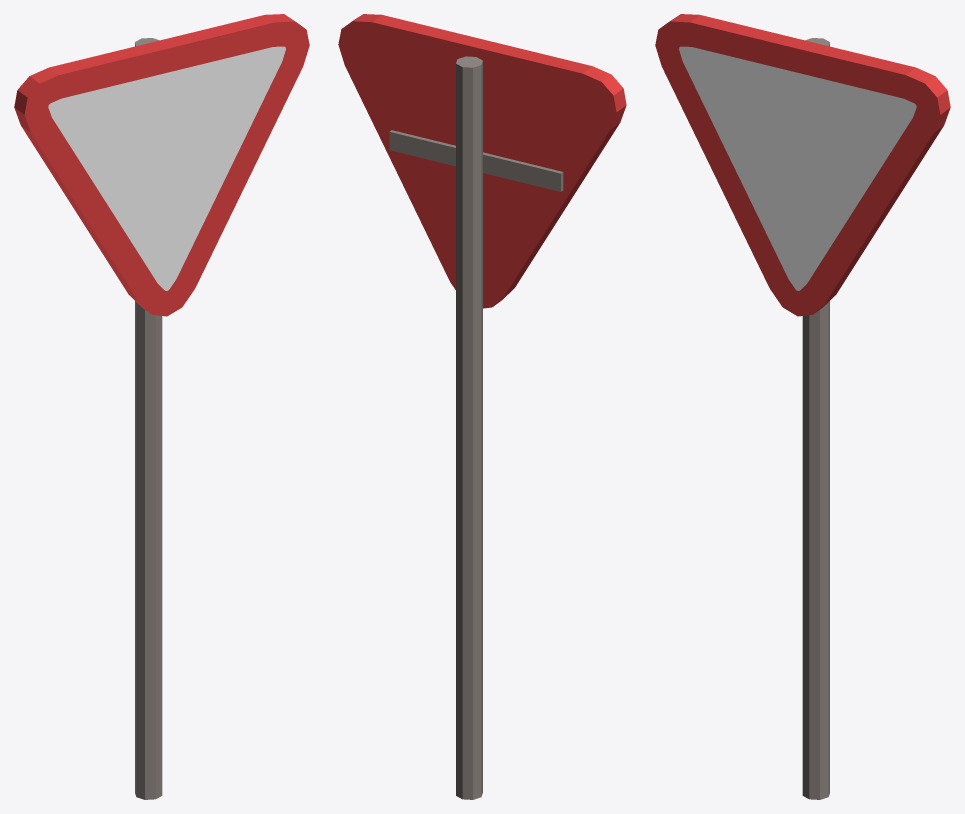
The model's file is RoadSign_03.fbx.
The picture shows the model from 3 angles, left to right: view 1: azimuth 30°, elevation 25°; view 2: azimuth 150°, elevation 25°; view 3: azimuth 330°, elevation 25°; orthographic projection. The views are drawn at different scales.
Parts seen in each view (by area): view 1: RoadSign_03; view 2: RoadSign_03; view 3: RoadSign_03.
Boxes of the visible parts, x1,y1,x2,y2 form: RoadSign_03: (14,14,309,799); RoadSign_03: (338,14,626,799); RoadSign_03: (655,14,950,799).
Bounding box in the file's own units: 1.4 × 3.56 × 0.2184.
